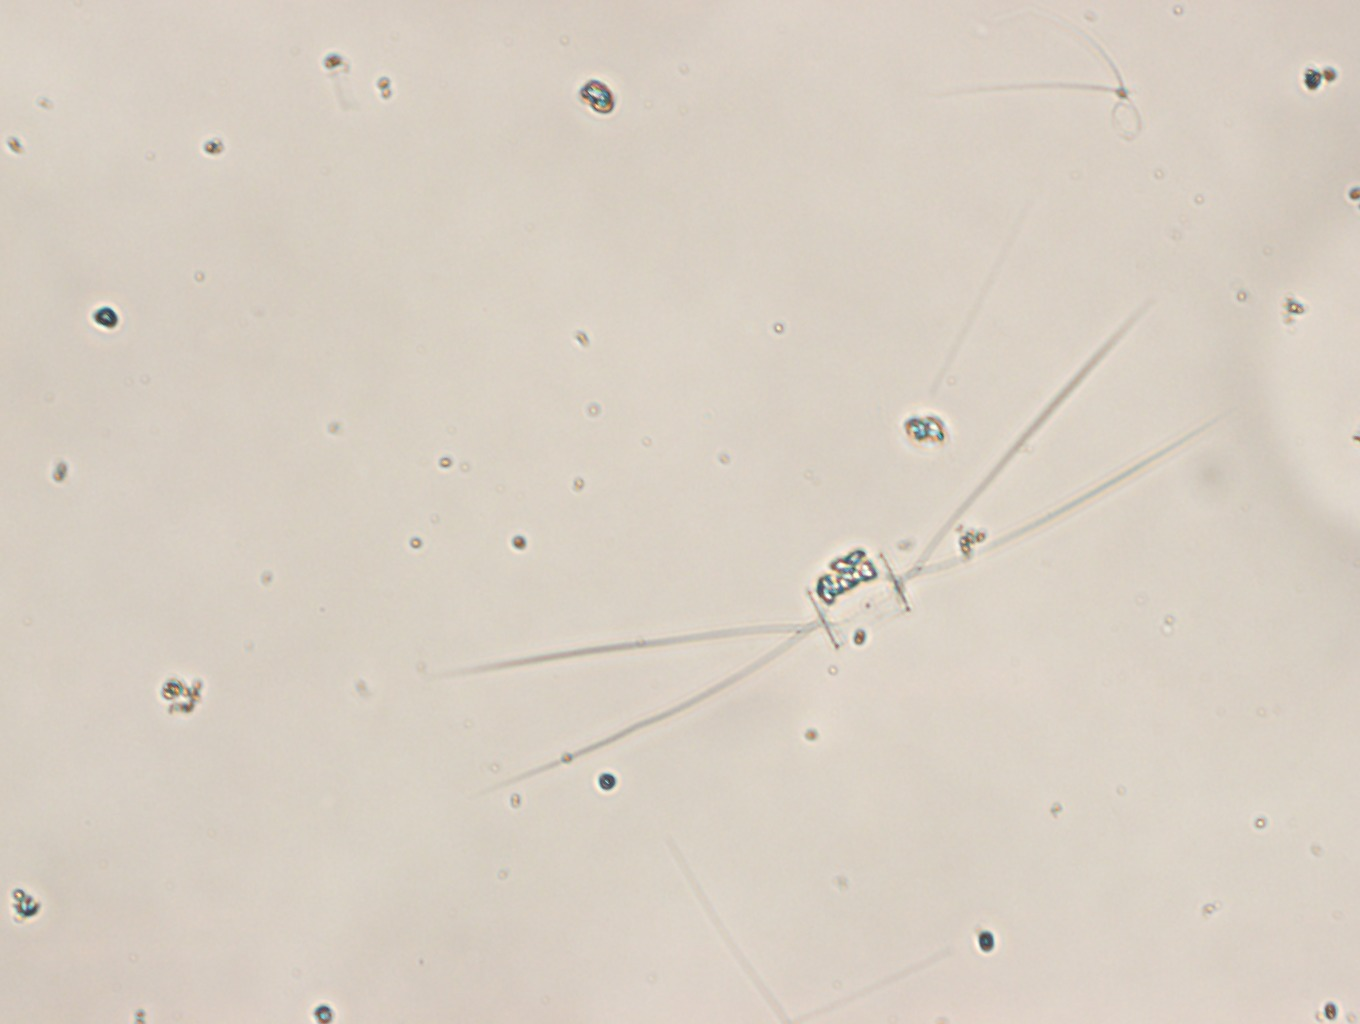chaetoceros: (446, 308, 1230, 790)
